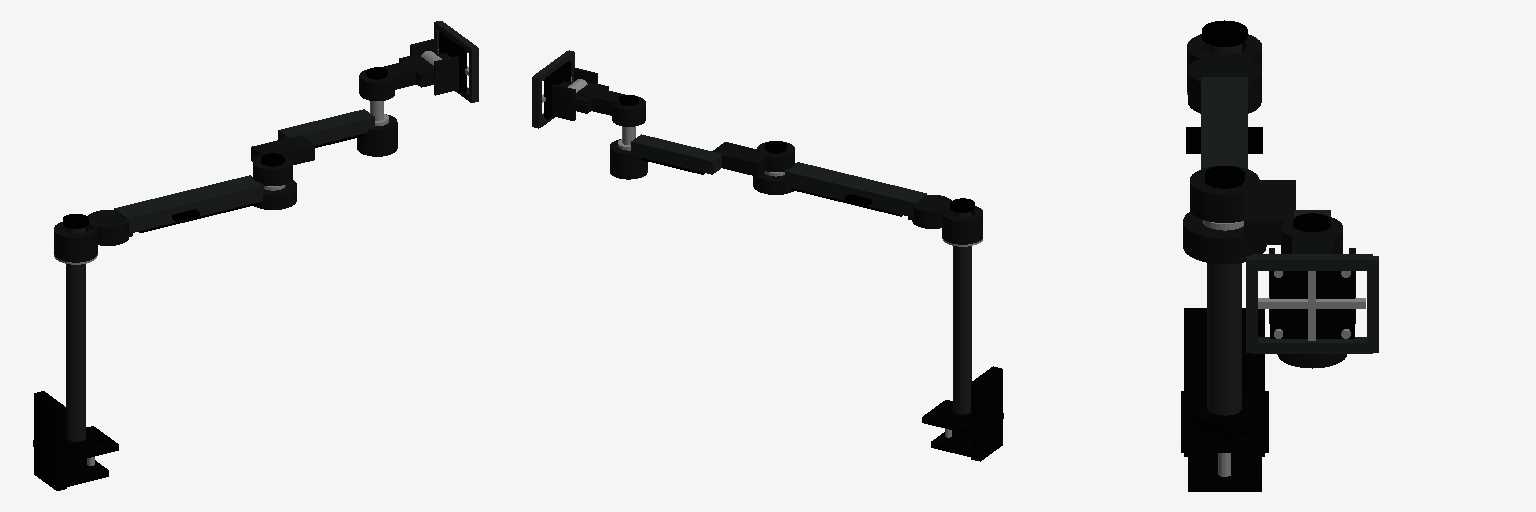
The robot description file, URDF, robot "desk_post_monitor_arm":
<robot name="desk_post_monitor_arm">
  <material name="matte_black">
    <color rgba="0.02 0.022 0.024 1" />
    </material>
  <material name="cast_dark">
    <color rgba="0.08 0.085 0.09 1" />
    </material>
  <material name="powder_coat">
    <color rgba="0.13 0.14 0.145 1" />
    </material>
  <material name="brushed_steel">
    <color rgba="0.55 0.56 0.54 1" />
    </material>
  <material name="rubber">
    <color rgba="0.015 0.014 0.013 1" />
    </material>
  <material name="trim_cap">
    <color rgba="0.01 0.011 0.013 1" />
    </material>
  <link name="clamp_post">
    <visual name="upper_clamp_plate">
      <origin xyz="0 0 0.015" rpy="0 0 0" />
      <geometry>
        <box size="0.18 0.13 0.018" />
        </geometry>
      <material name="matte_black" />
      </visual>
    <visual name="clamp_spine">
      <origin xyz="-0.075 0 0.045" rpy="0 0 0" />
      <geometry>
        <box size="0.03 0.12 0.23" />
        </geometry>
      <material name="matte_black" />
      </visual>
    <visual name="lower_clamp_jaw">
      <origin xyz="-0.01 0 -0.058" rpy="0 0 0" />
      <geometry>
        <box size="0.155 0.11 0.018" />
        </geometry>
      <material name="matte_black" />
      </visual>
    <visual name="clamp_screw">
      <origin xyz="0.045 0 -0.02" rpy="0 0 0" />
      <geometry>
        <cylinder radius="0.01" length="0.074" />
        </geometry>
      <material name="brushed_steel" />
      </visual>
    <visual name="pressure_pad">
      <origin xyz="0.045 0 0.021" rpy="0 0 0" />
      <geometry>
        <cylinder radius="0.036" length="0.007" />
        </geometry>
      <material name="rubber" />
      </visual>
    <visual name="post_flange">
      <origin xyz="0 0 0.031" rpy="0 0 0" />
      <geometry>
        <cylinder radius="0.052" length="0.014" />
        </geometry>
      <material name="matte_black" />
      </visual>
    <visual name="vertical_post">
      <origin xyz="0 0 0.34" rpy="0 0 0" />
      <geometry>
        <cylinder radius="0.026" length="0.61" />
        </geometry>
      <material name="powder_coat" />
      </visual>
    <visual name="thrust_washer">
      <origin xyz="0 0 0.557" rpy="0 0 0" />
      <geometry>
        <cylinder radius="0.056" length="0.006" />
        </geometry>
      <material name="brushed_steel" />
      </visual>
    <visual name="post_cap">
      <origin xyz="0 0 0.651" rpy="0 0 0" />
      <geometry>
        <cylinder radius="0.034" length="0.012" />
        </geometry>
      <material name="trim_cap" />
      </visual>
    <collision name="upper_clamp_plate">
      <origin xyz="0 0 0.015" rpy="0 0 0" />
      <geometry>
        <box size="0.18 0.13 0.018" />
        </geometry>
      </collision>
    <collision name="clamp_spine">
      <origin xyz="-0.075 0 0.045" rpy="0 0 0" />
      <geometry>
        <box size="0.03 0.12 0.23" />
        </geometry>
      </collision>
    <collision name="lower_clamp_jaw">
      <origin xyz="-0.01 0 -0.058" rpy="0 0 0" />
      <geometry>
        <box size="0.155 0.11 0.018" />
        </geometry>
      </collision>
    <collision name="clamp_screw">
      <origin xyz="0.045 0 -0.02" rpy="0 0 0" />
      <geometry>
        <cylinder radius="0.01" length="0.074" />
        </geometry>
      </collision>
    <collision name="pressure_pad">
      <origin xyz="0.045 0 0.021" rpy="0 0 0" />
      <geometry>
        <cylinder radius="0.036" length="0.007" />
        </geometry>
      </collision>
    <collision name="post_flange">
      <origin xyz="0 0 0.031" rpy="0 0 0" />
      <geometry>
        <cylinder radius="0.052" length="0.014" />
        </geometry>
      </collision>
    <collision name="vertical_post">
      <origin xyz="0 0 0.34" rpy="0 0 0" />
      <geometry>
        <cylinder radius="0.026" length="0.61" />
        </geometry>
      </collision>
    <collision name="thrust_washer">
      <origin xyz="0 0 0.557" rpy="0 0 0" />
      <geometry>
        <cylinder radius="0.056" length="0.006" />
        </geometry>
      </collision>
    <collision name="post_cap">
      <origin xyz="0 0 0.651" rpy="0 0 0" />
      <geometry>
        <cylinder radius="0.034" length="0.012" />
        </geometry>
      </collision>
    </link>
  <link name="primary_link">
    <visual name="collar_ring">
      <origin xyz="0 0 -0.025" rpy="0 0 0" />
      <geometry>
        <mesh filename="assets/meshes/collar_bearing_ring.obj" />
        </geometry>
      <material name="cast_dark" />
      </visual>
    <visual name="collar_lug">
      <origin xyz="0.095 0 -0.01" rpy="0 0 0" />
      <geometry>
        <box size="0.12 0.055 0.052" />
        </geometry>
      <material name="cast_dark" />
      </visual>
    <visual name="shoulder_boss">
      <origin xyz="0.095 0 -0.01" rpy="0 0 0" />
      <geometry>
        <cylinder radius="0.055" length="0.052" />
        </geometry>
      <material name="cast_dark" />
      </visual>
    <visual name="link_cover">
      <origin xyz="0.335 0 0" rpy="0 0 0" />
      <geometry>
        <box size="0.405 0.07 0.045" />
        </geometry>
      <material name="powder_coat" />
      </visual>
    <visual name="cable_cover">
      <origin xyz="0.35 0 -0.028" rpy="0 0 0" />
      <geometry>
        <box size="0.345 0.05 0.012" />
        </geometry>
      <material name="trim_cap" />
      </visual>
    <visual name="elbow_bearing">
      <origin xyz="0.585 0 -0.024" rpy="0 0 0" />
      <geometry>
        <cylinder radius="0.062" length="0.042" />
        </geometry>
      <material name="cast_dark" />
      </visual>
    <visual name="elbow_washer">
      <origin xyz="0.585 0 0.002" rpy="0 0 0" />
      <geometry>
        <cylinder radius="0.033" length="0.01" />
        </geometry>
      <material name="brushed_steel" />
      </visual>
    <visual name="primary_trim_0">
      <origin xyz="0.3 -0.046 -0.004" rpy="0 0 0" />
      <geometry>
        <box size="0.07 0.022 0.012" />
        </geometry>
      <material name="trim_cap" />
      </visual>
    <visual name="primary_trim_1">
      <origin xyz="0.3 0.046 -0.004" rpy="0 0 0" />
      <geometry>
        <box size="0.07 0.022 0.012" />
        </geometry>
      <material name="trim_cap" />
      </visual>
    <collision name="collar_ring">
      <origin xyz="0 0 -0.025" rpy="0 0 0" />
      <geometry>
        <mesh filename="assets/meshes/collar_bearing_ring.obj" />
        </geometry>
      </collision>
    <collision name="collar_lug">
      <origin xyz="0.095 0 -0.01" rpy="0 0 0" />
      <geometry>
        <box size="0.12 0.055 0.052" />
        </geometry>
      </collision>
    <collision name="shoulder_boss">
      <origin xyz="0.095 0 -0.01" rpy="0 0 0" />
      <geometry>
        <cylinder radius="0.055" length="0.052" />
        </geometry>
      </collision>
    <collision name="link_cover">
      <origin xyz="0.335 0 0" rpy="0 0 0" />
      <geometry>
        <box size="0.405 0.07 0.045" />
        </geometry>
      </collision>
    <collision name="cable_cover">
      <origin xyz="0.35 0 -0.028" rpy="0 0 0" />
      <geometry>
        <box size="0.345 0.05 0.012" />
        </geometry>
      </collision>
    <collision name="elbow_bearing">
      <origin xyz="0.585 0 -0.024" rpy="0 0 0" />
      <geometry>
        <cylinder radius="0.062" length="0.042" />
        </geometry>
      </collision>
    <collision name="elbow_washer">
      <origin xyz="0.585 0 0.002" rpy="0 0 0" />
      <geometry>
        <cylinder radius="0.033" length="0.01" />
        </geometry>
      </collision>
    <collision name="primary_trim_0">
      <origin xyz="0.3 -0.046 -0.004" rpy="0 0 0" />
      <geometry>
        <box size="0.07 0.022 0.012" />
        </geometry>
      </collision>
    <collision name="primary_trim_1">
      <origin xyz="0.3 0.046 -0.004" rpy="0 0 0" />
      <geometry>
        <box size="0.07 0.022 0.012" />
        </geometry>
      </collision>
    </link>
  <link name="secondary_link">
    <visual name="elbow_rotor">
      <origin xyz="0 0 0.041" rpy="0 0 0" />
      <geometry>
        <cylinder radius="0.052" length="0.046" />
        </geometry>
      <material name="cast_dark" />
      </visual>
    <visual name="elbow_cap">
      <origin xyz="0 0 0.069" rpy="0 0 0" />
      <geometry>
        <cylinder radius="0.03" length="0.01" />
        </geometry>
      <material name="trim_cap" />
      </visual>
    <visual name="offset_bridge">
      <origin xyz="0.07 0.067 0.044" rpy="0 0 0" />
      <geometry>
        <box size="0.145 0.078 0.04" />
        </geometry>
      <material name="cast_dark" />
      </visual>
    <visual name="link_cover">
      <origin xyz="0.235 0.13 0.045" rpy="0 0 0" />
      <geometry>
        <box size="0.255 0.055 0.04" />
        </geometry>
      <material name="powder_coat" />
      </visual>
    <visual name="cable_cover">
      <origin xyz="0.245 0.13 0.018" rpy="0 0 0" />
      <geometry>
        <box size="0.205 0.038 0.01" />
        </geometry>
      <material name="trim_cap" />
      </visual>
    <visual name="wrist_bearing">
      <origin xyz="0.385 0.13 -0.003" rpy="0 0 0" />
      <geometry>
        <cylinder radius="0.052" length="0.075" />
        </geometry>
      <material name="cast_dark" />
      </visual>
    <visual name="wrist_washer">
      <origin xyz="0.385 0.13 0.041" rpy="0 0 0" />
      <geometry>
        <cylinder radius="0.03" length="0.01" />
        </geometry>
      <material name="brushed_steel" />
      </visual>
    <collision name="elbow_rotor">
      <origin xyz="0 0 0.041" rpy="0 0 0" />
      <geometry>
        <cylinder radius="0.052" length="0.046" />
        </geometry>
      </collision>
    <collision name="elbow_cap">
      <origin xyz="0 0 0.069" rpy="0 0 0" />
      <geometry>
        <cylinder radius="0.03" length="0.01" />
        </geometry>
      </collision>
    <collision name="offset_bridge">
      <origin xyz="0.07 0.067 0.044" rpy="0 0 0" />
      <geometry>
        <box size="0.145 0.078 0.04" />
        </geometry>
      </collision>
    <collision name="link_cover">
      <origin xyz="0.235 0.13 0.045" rpy="0 0 0" />
      <geometry>
        <box size="0.255 0.055 0.04" />
        </geometry>
      </collision>
    <collision name="cable_cover">
      <origin xyz="0.245 0.13 0.018" rpy="0 0 0" />
      <geometry>
        <box size="0.205 0.038 0.01" />
        </geometry>
      </collision>
    <collision name="wrist_bearing">
      <origin xyz="0.385 0.13 -0.003" rpy="0 0 0" />
      <geometry>
        <cylinder radius="0.052" length="0.075" />
        </geometry>
      </collision>
    <collision name="wrist_washer">
      <origin xyz="0.385 0.13 0.041" rpy="0 0 0" />
      <geometry>
        <cylinder radius="0.03" length="0.01" />
        </geometry>
      </collision>
    </link>
  <link name="head_pan">
    <visual name="pan_bearing">
      <origin xyz="0 0 0.095" rpy="0 0 0" />
      <geometry>
        <cylinder radius="0.046" length="0.052" />
        </geometry>
      <material name="cast_dark" />
      </visual>
    <visual name="pan_spindle">
      <origin xyz="0 0 0.036" rpy="0 0 0" />
      <geometry>
        <cylinder radius="0.018" length="0.07" />
        </geometry>
      <material name="brushed_steel" />
      </visual>
    <visual name="pan_cap">
      <origin xyz="0 0 0.127" rpy="0 0 0" />
      <geometry>
        <cylinder radius="0.028" length="0.009" />
        </geometry>
      <material name="trim_cap" />
      </visual>
    <visual name="neck_casting">
      <origin xyz="0.074 0 0.105" rpy="0 0 0" />
      <geometry>
        <box size="0.125 0.06 0.042" />
        </geometry>
      <material name="cast_dark" />
      </visual>
    <visual name="yoke_bridge">
      <origin xyz="0.125 0 0.105" rpy="0 0 0" />
      <geometry>
        <box size="0.055 0.116 0.036" />
        </geometry>
      <material name="cast_dark" />
      </visual>
    <visual name="yoke_cheek_0">
      <origin xyz="0.17 -0.06 0.105" rpy="0 0 0" />
      <geometry>
        <box size="0.07 0.01 0.092" />
        </geometry>
      <material name="cast_dark" />
      </visual>
    <visual name="yoke_cheek_1">
      <origin xyz="0.17 0.06 0.105" rpy="0 0 0" />
      <geometry>
        <box size="0.07 0.01 0.092" />
        </geometry>
      <material name="cast_dark" />
      </visual>
    <collision name="pan_bearing">
      <origin xyz="0 0 0.095" rpy="0 0 0" />
      <geometry>
        <cylinder radius="0.046" length="0.052" />
        </geometry>
      </collision>
    <collision name="pan_spindle">
      <origin xyz="0 0 0.036" rpy="0 0 0" />
      <geometry>
        <cylinder radius="0.018" length="0.07" />
        </geometry>
      </collision>
    <collision name="pan_cap">
      <origin xyz="0 0 0.127" rpy="0 0 0" />
      <geometry>
        <cylinder radius="0.028" length="0.009" />
        </geometry>
      </collision>
    <collision name="neck_casting">
      <origin xyz="0.074 0 0.105" rpy="0 0 0" />
      <geometry>
        <box size="0.125 0.06 0.042" />
        </geometry>
      </collision>
    <collision name="yoke_bridge">
      <origin xyz="0.125 0 0.105" rpy="0 0 0" />
      <geometry>
        <box size="0.055 0.116 0.036" />
        </geometry>
      </collision>
    <collision name="yoke_cheek_0">
      <origin xyz="0.17 -0.06 0.105" rpy="0 0 0" />
      <geometry>
        <box size="0.07 0.01 0.092" />
        </geometry>
      </collision>
    <collision name="yoke_cheek_1">
      <origin xyz="0.17 0.06 0.105" rpy="0 0 0" />
      <geometry>
        <box size="0.07 0.01 0.092" />
        </geometry>
      </collision>
    </link>
  <link name="vesa_head">
    <visual name="tilt_trunnion">
      <origin xyz="0 0 0" rpy="-1.5708 0 0" />
      <geometry>
        <cylinder radius="0.022" length="0.11" />
        </geometry>
      <material name="brushed_steel" />
      </visual>
    <visual name="trunnion_block">
      <origin xyz="0.02 0 0" rpy="0 0 0" />
      <geometry>
        <box size="0.04 0.052 0.036" />
        </geometry>
      <material name="cast_dark" />
      </visual>
    <visual name="frame_plate">
      <origin xyz="0.044 0 0" rpy="0 0 0" />
      <geometry>
        <box size="0.01 0.126 0.126" />
        </geometry>
      <material name="matte_black" />
      </visual>
    <visual name="frame_top">
      <origin xyz="0.055 0 0.068" rpy="0 0 0" />
      <geometry>
        <box size="0.02 0.18 0.018" />
        </geometry>
      <material name="powder_coat" />
      </visual>
    <visual name="frame_bottom">
      <origin xyz="0.055 0 -0.068" rpy="0 0 0" />
      <geometry>
        <box size="0.02 0.18 0.018" />
        </geometry>
      <material name="powder_coat" />
      </visual>
    <visual name="frame_side_0">
      <origin xyz="0.055 -0.09 0" rpy="0 0 0" />
      <geometry>
        <box size="0.02 0.018 0.15" />
        </geometry>
      <material name="powder_coat" />
      </visual>
    <visual name="frame_side_1">
      <origin xyz="0.055 0.09 0" rpy="0 0 0" />
      <geometry>
        <box size="0.02 0.018 0.15" />
        </geometry>
      <material name="powder_coat" />
      </visual>
    <visual name="vesa_crossbar">
      <origin xyz="0.052 0 0" rpy="0 0 0" />
      <geometry>
        <box size="0.014 0.16 0.012" />
        </geometry>
      <material name="brushed_steel" />
      </visual>
    <visual name="vesa_upright">
      <origin xyz="0.052 0 0" rpy="0 0 0" />
      <geometry>
        <box size="0.014 0.012 0.116" />
        </geometry>
      <material name="brushed_steel" />
      </visual>
    <visual name="vesa_screw_0">
      <origin xyz="0.052 -0.05 -0.05" rpy="0 1.5708 0" />
      <geometry>
        <cylinder radius="0.007" length="0.006" />
        </geometry>
      <material name="brushed_steel" />
      </visual>
    <visual name="vesa_screw_1">
      <origin xyz="0.052 -0.05 0.05" rpy="0 1.5708 0" />
      <geometry>
        <cylinder radius="0.007" length="0.006" />
        </geometry>
      <material name="brushed_steel" />
      </visual>
    <visual name="vesa_screw_2">
      <origin xyz="0.052 0.05 -0.05" rpy="0 1.5708 0" />
      <geometry>
        <cylinder radius="0.007" length="0.006" />
        </geometry>
      <material name="brushed_steel" />
      </visual>
    <visual name="vesa_screw_3">
      <origin xyz="0.052 0.05 0.05" rpy="0 1.5708 0" />
      <geometry>
        <cylinder radius="0.007" length="0.006" />
        </geometry>
      <material name="brushed_steel" />
      </visual>
    <collision name="tilt_trunnion">
      <origin xyz="0 0 0" rpy="-1.5708 0 0" />
      <geometry>
        <cylinder radius="0.022" length="0.11" />
        </geometry>
      </collision>
    <collision name="trunnion_block">
      <origin xyz="0.02 0 0" rpy="0 0 0" />
      <geometry>
        <box size="0.04 0.052 0.036" />
        </geometry>
      </collision>
    <collision name="frame_plate">
      <origin xyz="0.044 0 0" rpy="0 0 0" />
      <geometry>
        <box size="0.01 0.126 0.126" />
        </geometry>
      </collision>
    <collision name="frame_top">
      <origin xyz="0.055 0 0.068" rpy="0 0 0" />
      <geometry>
        <box size="0.02 0.18 0.018" />
        </geometry>
      </collision>
    <collision name="frame_bottom">
      <origin xyz="0.055 0 -0.068" rpy="0 0 0" />
      <geometry>
        <box size="0.02 0.18 0.018" />
        </geometry>
      </collision>
    <collision name="frame_side_0">
      <origin xyz="0.055 -0.09 0" rpy="0 0 0" />
      <geometry>
        <box size="0.02 0.018 0.15" />
        </geometry>
      </collision>
    <collision name="frame_side_1">
      <origin xyz="0.055 0.09 0" rpy="0 0 0" />
      <geometry>
        <box size="0.02 0.018 0.15" />
        </geometry>
      </collision>
    <collision name="vesa_crossbar">
      <origin xyz="0.052 0 0" rpy="0 0 0" />
      <geometry>
        <box size="0.014 0.16 0.012" />
        </geometry>
      </collision>
    <collision name="vesa_upright">
      <origin xyz="0.052 0 0" rpy="0 0 0" />
      <geometry>
        <box size="0.014 0.012 0.116" />
        </geometry>
      </collision>
    <collision name="vesa_screw_0">
      <origin xyz="0.052 -0.05 -0.05" rpy="0 1.5708 0" />
      <geometry>
        <cylinder radius="0.007" length="0.006" />
        </geometry>
      </collision>
    <collision name="vesa_screw_1">
      <origin xyz="0.052 -0.05 0.05" rpy="0 1.5708 0" />
      <geometry>
        <cylinder radius="0.007" length="0.006" />
        </geometry>
      </collision>
    <collision name="vesa_screw_2">
      <origin xyz="0.052 0.05 -0.05" rpy="0 1.5708 0" />
      <geometry>
        <cylinder radius="0.007" length="0.006" />
        </geometry>
      </collision>
    <collision name="vesa_screw_3">
      <origin xyz="0.052 0.05 0.05" rpy="0 1.5708 0" />
      <geometry>
        <cylinder radius="0.007" length="0.006" />
        </geometry>
      </collision>
    </link>
  <joint name="collar_yaw" type="revolute">
    <origin xyz="0 0 0.62" rpy="0 0 0" />
    <parent link="clamp_post" />
    <child link="primary_link" />
    <axis xyz="0 0 1" />
    <limit effort="45" velocity="1.2" lower="-1.55" upper="1.55" />
    </joint>
  <joint name="elbow_yaw" type="revolute">
    <origin xyz="0.585 0 0" rpy="0 0 0" />
    <parent link="primary_link" />
    <child link="secondary_link" />
    <axis xyz="0 0 1" />
    <limit effort="32" velocity="1.4" lower="0" upper="2.25" />
    </joint>
  <joint name="pan_yaw" type="revolute">
    <origin xyz="0.385 0.13 0.045" rpy="0 0 0" />
    <parent link="secondary_link" />
    <child link="head_pan" />
    <axis xyz="0 0 1" />
    <limit effort="16" velocity="1.6" lower="-1.25" upper="1.25" />
    </joint>
  <joint name="tilt_pitch" type="revolute">
    <origin xyz="0.18 0 0.105" rpy="0 0 0" />
    <parent link="head_pan" />
    <child link="vesa_head" />
    <axis xyz="0 1 0" />
    <limit effort="12" velocity="1.2" lower="-0.55" upper="0.65" />
    </joint>
  </robot>

--- Render facts (derived) ---
Views: 3 orthographic renders of the robot side by side, from view 1: azimuth 30°, elevation 25°; view 2: azimuth 150°, elevation 25°; view 3: azimuth 270°, elevation 25°.
Model desk_post_monitor_arm with 5 links and 4 joints (4 revolute), rooted at clamp_post, posed all joints at 0.
Visible links, largest first — view 1: clamp_post, primary_link, secondary_link, head_pan, vesa_head; view 2: clamp_post, primary_link, secondary_link, head_pan, vesa_head; view 3: clamp_post, vesa_head, primary_link, secondary_link, head_pan.
Link boxes in pixels (x1,y1,x2,y2): clamp_post: (33,214,118,490); primary_link: (54,175,296,262); secondary_link: (251,109,397,185); head_pan: (359,39,458,120); vesa_head: (421,21,478,102); clamp_post: (922,198,1003,461); primary_link: (753,162,982,244); secondary_link: (610,134,794,179); head_pan: (552,68,645,144); vesa_head: (532,50,587,128); clamp_post: (1181,20,1268,491); vesa_head: (1246,254,1378,353); primary_link: (1183,34,1266,263); secondary_link: (1190,165,1346,368); head_pan: (1269,213,1355,323).
Size in the robot's own frame: 1.3 by 0.294 by 0.917 metres.
1 mesh visuals loaded from 1 distinct referenced files (1 OBJ).
